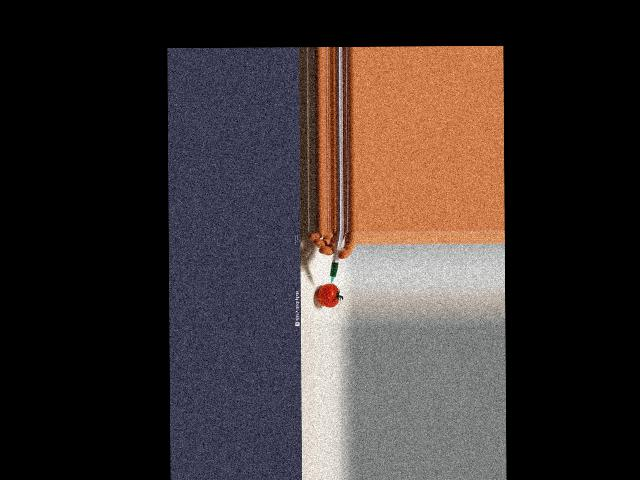tomato: (317, 283, 338, 306)
